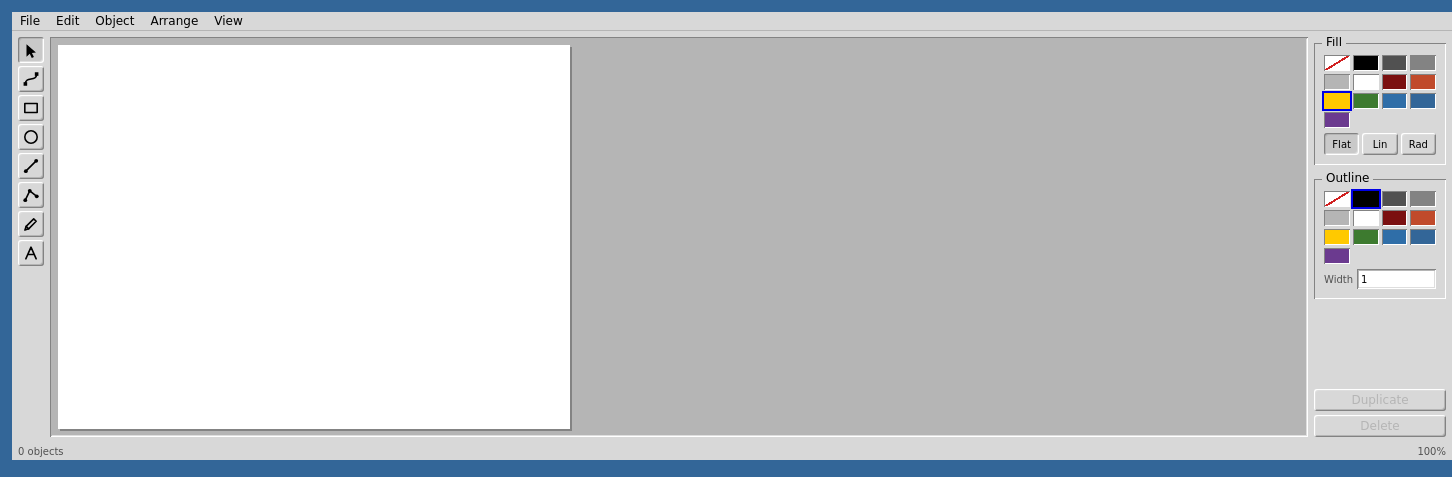
Test: Draw: selection and transforms › reports the selection in the status line
The image size is (1452, 477).
Click the 3rd button with class "draw-tool": (31, 108) [18, 95, 44, 121]
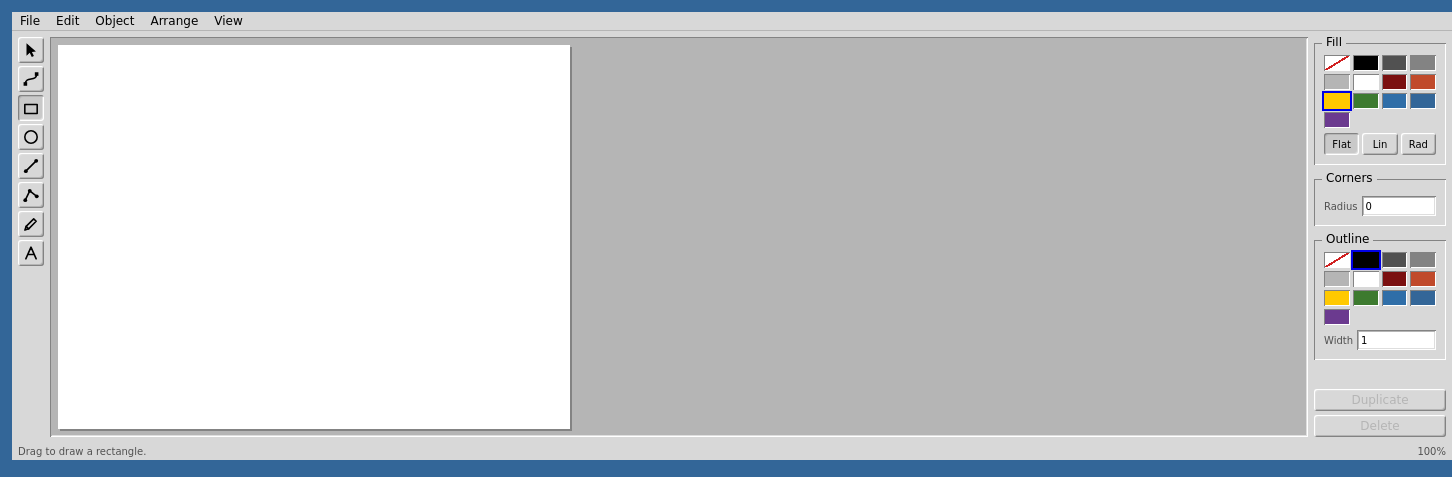
Press the mouse on the icon with class "draw-surface": (314, 237) [58, 45, 570, 429]
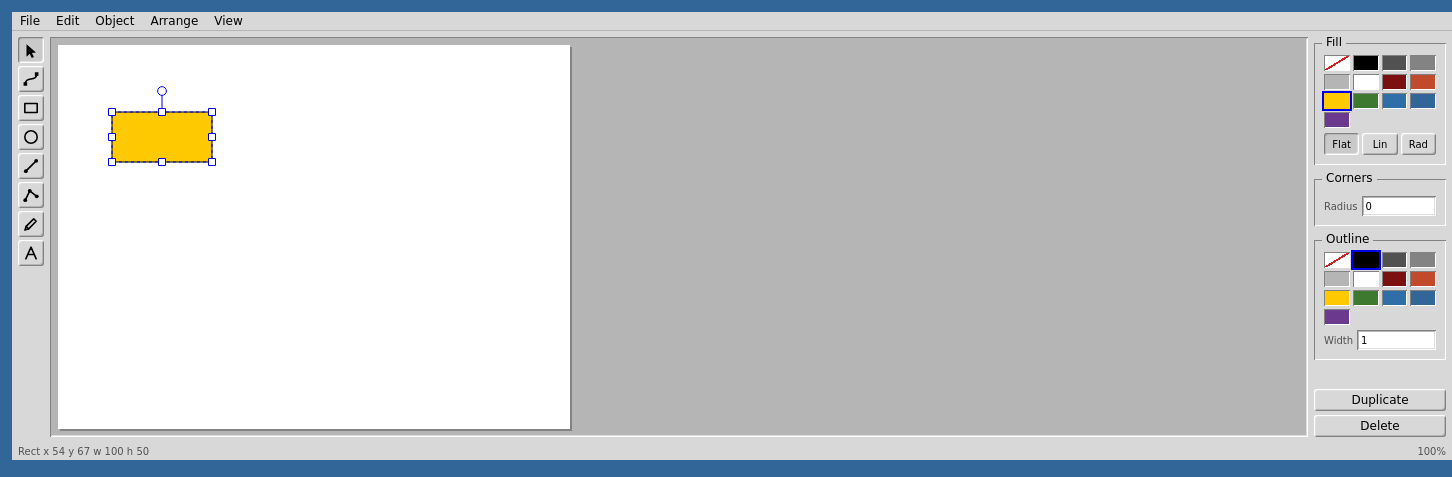
Check: the element with class "draw-status" shows "Rect", box [18, 446, 149, 457]
Check: the element with class "draw-status" shows "w 100", box [18, 446, 149, 457]
